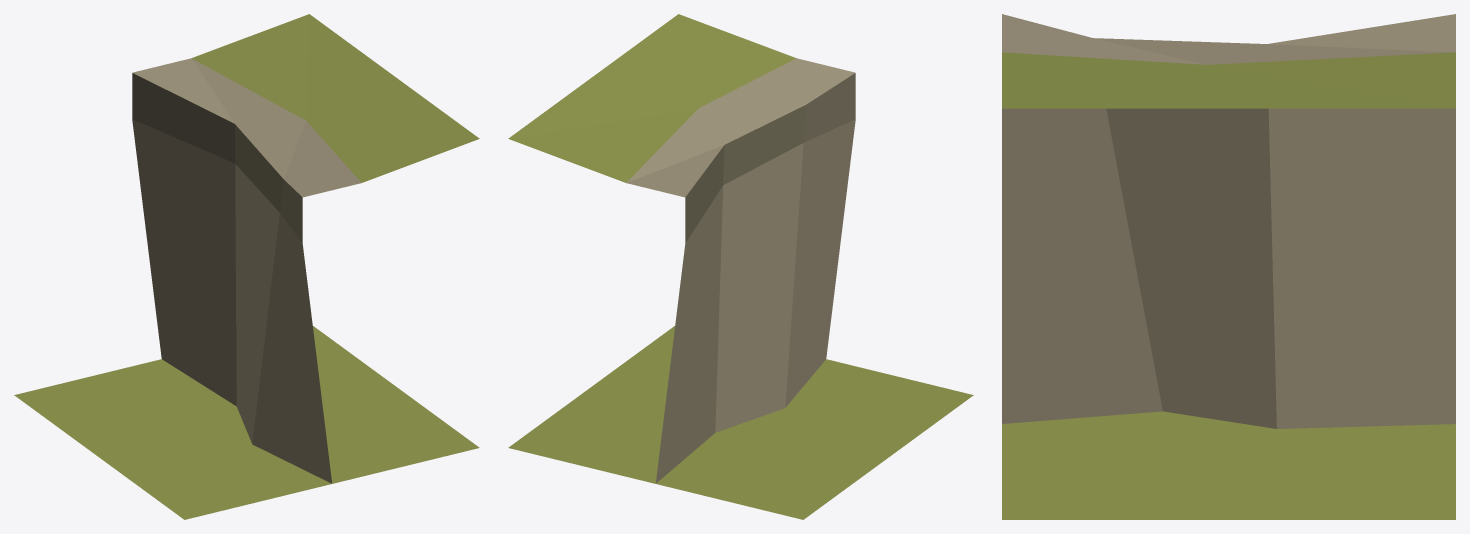
File: forest_cliff02.glb
3 renders of one model, left to right at view 1: azimuth 30°, elevation 25°; view 2: azimuth 150°, elevation 25°; view 3: azimuth 270°, elevation 25°, orthographic. The views are drawn at different scales.
Parts seen in each view (by area): view 1: forest_cliff02-col.001, forest_cliff02-col; view 2: forest_cliff02-col.001, forest_cliff02-col; view 3: forest_cliff02-col.001, forest_cliff02-col.
Part boxes in pixels (x1,y1,x2,y2): forest_cliff02-col.001: (132,14,479,483); forest_cliff02-col: (14,326,479,519); forest_cliff02-col.001: (508,14,855,483); forest_cliff02-col: (508,326,973,519); forest_cliff02-col.001: (1002,14,1455,428); forest_cliff02-col: (1002,411,1455,519).
Size of the model in its own units: 10 by 10 by 10.
